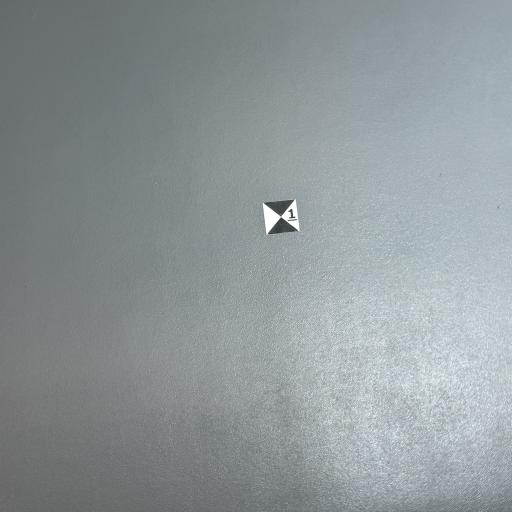target1: (261, 194, 307, 237)
